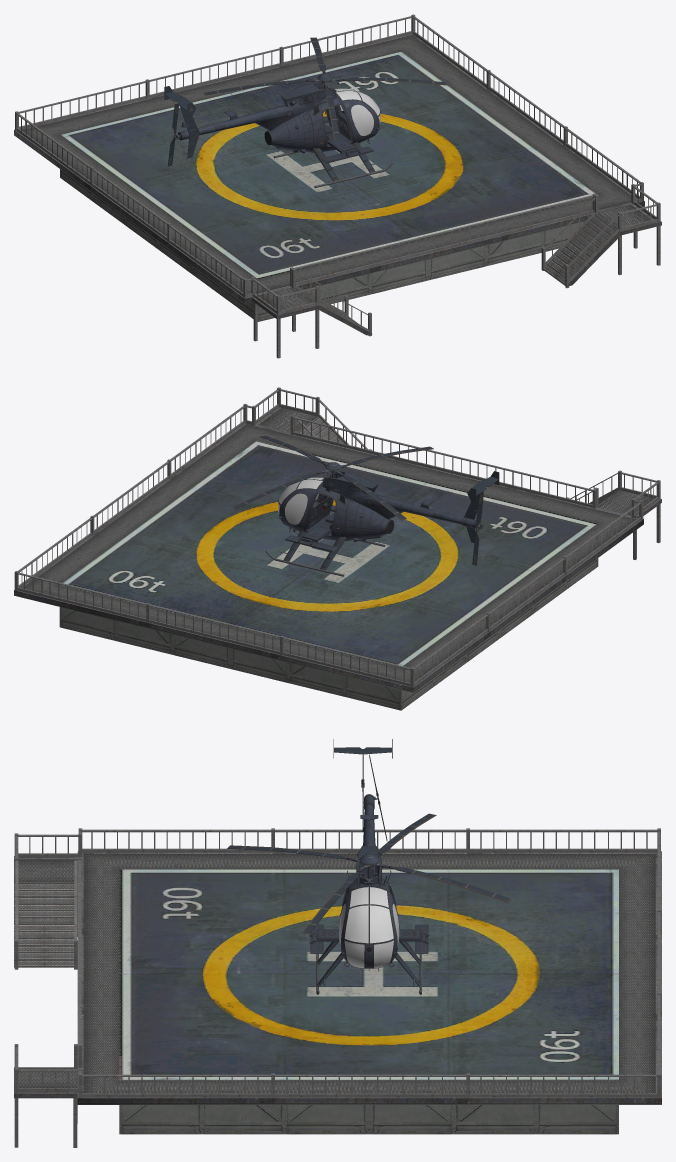
Rendered from helipad.obj.
The picture shows the model from 3 angles, top to bottom: view 1: azimuth 30°, elevation 25°; view 2: azimuth 150°, elevation 25°; view 3: azimuth 270°, elevation 25°; orthographic projection. The views are drawn at different scales.
Parts seen in each view (by area): view 1: Helipad, Helicopter_Helicopter_; view 2: Helipad, Helicopter_Helicopter_; view 3: Helipad, Helicopter_Helicopter_.
Boxes of the visible parts, <box> form: Helipad: <box>14,14,661,358</box>; Helicopter_Helicopter_: <box>164,37,447,187</box>; Helipad: <box>14,387,661,710</box>; Helicopter_Helicopter_: <box>232,435,499,576</box>; Helipad: <box>14,828,661,1147</box>; Helicopter_Helicopter_: <box>227,739,511,994</box>.
Bounding box in the file's own units: 31.03 × 11.39 × 34.4.
